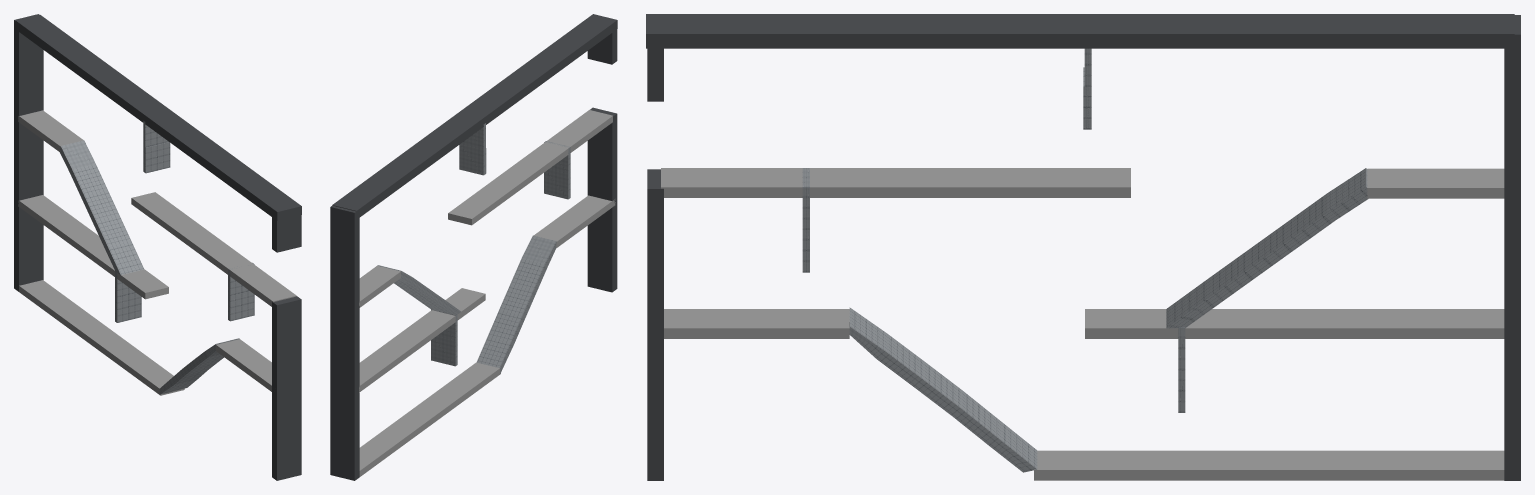
File: Stage2_collision.fbx
The picture shows the model from 3 angles, left to right: view 1: azimuth 30°, elevation 25°; view 2: azimuth 150°, elevation 25°; view 3: azimuth 270°, elevation 25°; orthographic projection. The views are drawn at different scales.
Parts seen in each view (by area): view 1: polySurface14, wall_def2, polySurface13, floor_def145, floor_def140, floor_def146, floor_def141, floor_def153, floor_def142, floor_def103, wall13, wall7 (+2 smaller); view 2: polySurface14, wall_def2, polySurface13, floor_def145, floor_def140, floor_def103, floor_def141, floor_def153, floor_def146, floor_def142, wall9, wall13 (+3 smaller); view 3: polySurface14, floor_def140, floor_def145, floor_def141, wall_def2, floor_def146, floor_def103, polySurface13, floor_def153, floor_def142.
Part boxes in pixels (x1=…): polySurface14: x1=16, y1=15, x2=301, y2=220; wall_def2: x1=14, y1=14, x2=43, y2=291; polySurface13: x1=272, y1=209, x2=301, y2=480; floor_def145: x1=131, y1=192, x2=296, y2=306; floor_def140: x1=19, y1=280, x2=184, y2=395; floor_def146: x1=60, y1=140, x2=143, y2=275; floor_def141: x1=18, y1=195, x2=168, y2=299; floor_def153: x1=216, y1=339, x2=271, y2=391; floor_def142: x1=18, y1=110, x2=83, y2=152; floor_def103: x1=159, y1=338, x2=239, y2=394; wall13: x1=228, y1=291, x2=254, y2=321; wall7: x1=115, y1=293, x2=141, y2=322; polySurface14: x1=332, y1=14, x2=617, y2=219; wall_def2: x1=330, y1=205, x2=359, y2=480; polySurface13: x1=587, y1=25, x2=617, y2=292; floor_def145: x1=448, y1=110, x2=612, y2=225; floor_def140: x1=359, y1=362, x2=500, y2=476; floor_def103: x1=476, y1=235, x2=556, y2=373; floor_def141: x1=359, y1=288, x2=485, y2=392; floor_def153: x1=534, y1=195, x2=615, y2=247; floor_def146: x1=377, y1=265, x2=460, y2=315; floor_def142: x1=359, y1=265, x2=400, y2=307; wall9: x1=459, y1=144, x2=485, y2=175; wall13: x1=544, y1=169, x2=570, y2=199; polySurface14: x1=646, y1=14, x2=1514, y2=48; floor_def140: x1=1034, y1=450, x2=1504, y2=480; floor_def145: x1=661, y1=168, x2=1130, y2=197; floor_def141: x1=1085, y1=309, x2=1504, y2=338; wall_def2: x1=1504, y1=15, x2=1520, y2=480; floor_def146: x1=1166, y1=168, x2=1368, y2=328; floor_def103: x1=849, y1=307, x2=1037, y2=472; polySurface13: x1=647, y1=36, x2=663, y2=480; floor_def153: x1=664, y1=309, x2=849, y2=338; floor_def142: x1=1367, y1=168, x2=1504, y2=198.
Size of the model in its own units: 201 by 2102 by 3727.
